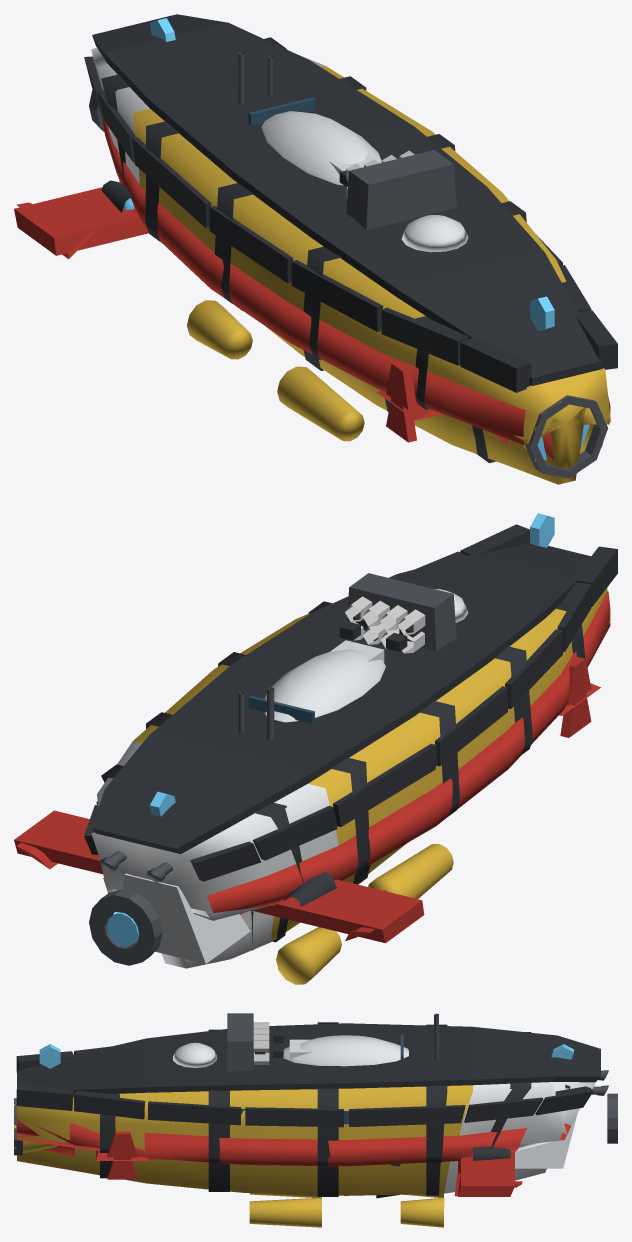
Rendered from yukikaze.obj.
3 views of the same model, one above another, from view 1: azimuth 30°, elevation 25°; view 2: azimuth 150°, elevation 25°; view 3: azimuth 270°, elevation 25° (orthographic). The views are drawn at different scales.
Visible parts, largest first — view 1: hull, wing, bridge, missile_launcher, engine_nozzle, superstructure; view 2: hull, wing, missile_launcher, bridge, wave_motion_gun, superstructure, engine_nozzle; view 3: hull, bridge, wing, missile_launcher, superstructure, engine_nozzle, wave_motion_gun.
Part boxes in pixels (x1=…): hull: x1=84, y1=14, x2=617, y2=484; wing: x1=14, y1=187, x2=442, y2=442; bridge: x1=248, y1=97, x2=468, y2=252; missile_launcher: x1=346, y1=150, x2=456, y2=229; engine_nozzle: x1=101, y1=180, x2=607, y2=478; superstructure: x1=209, y1=51, x2=399, y2=260; hull: x1=84, y1=513, x2=617, y2=984; wing: x1=14, y1=656, x2=600, y2=943; missile_launcher: x1=345, y1=573, x2=456, y2=653; bridge: x1=248, y1=589, x2=468, y2=723; wave_motion_gun: x1=89, y1=889, x2=162, y2=965; superstructure: x1=100, y1=612, x2=505, y2=882; engine_nozzle: x1=284, y1=872, x2=336, y2=906; hull: x1=16, y1=1022, x2=600, y2=1227; bridge: x1=173, y1=1034, x2=408, y2=1067; wing: x1=96, y1=1131, x2=522, y2=1196; missile_launcher: x1=227, y1=1013, x2=269, y2=1071; superstructure: x1=241, y1=1013, x2=608, y2=1124; engine_nozzle: x1=14, y1=1098, x2=510, y2=1198; wave_motion_gun: x1=607, y1=1093, x2=617, y2=1143.
Size of the model in its own units: 38 by 28.08 by 80.
